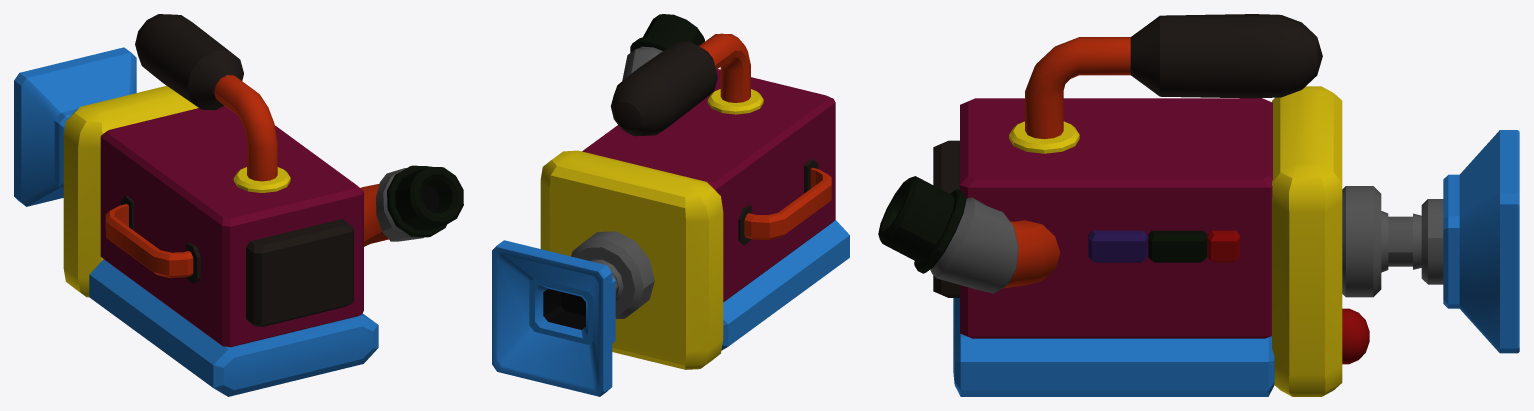
Rendered from Video-Camera-1.FBX.
3 views of the same model, side by side, from view 1: azimuth 30°, elevation 25°; view 2: azimuth 150°, elevation 25°; view 3: azimuth 270°, elevation 25° (orthographic). The views are drawn at different scales.
Parts seen in each view (by area): view 1: Video-Camera-1; view 2: Video-Camera-1; view 3: Video-Camera-1.
Part boxes in pixels (x1,y1,x2,y2): Video-Camera-1: (14, 14, 463, 396); Video-Camera-1: (492, 14, 849, 396); Video-Camera-1: (878, 14, 1519, 396).
Bounding box in the file's own units: 738 × 1313 × 763.
